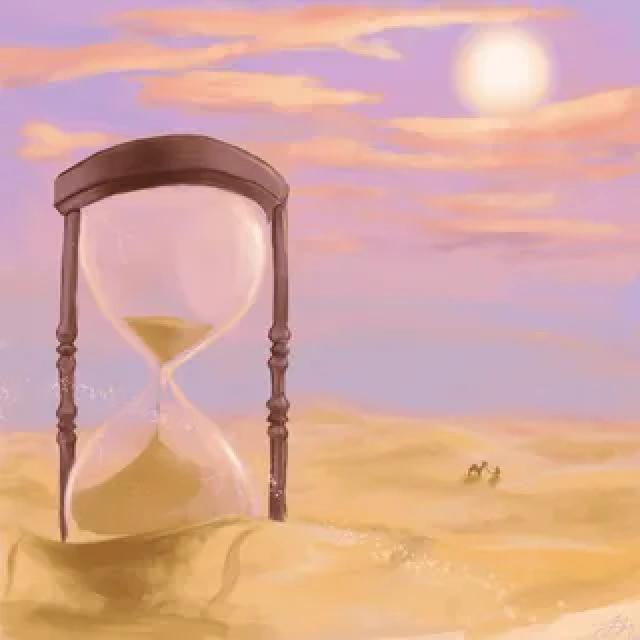clock: (44, 131, 306, 578)
